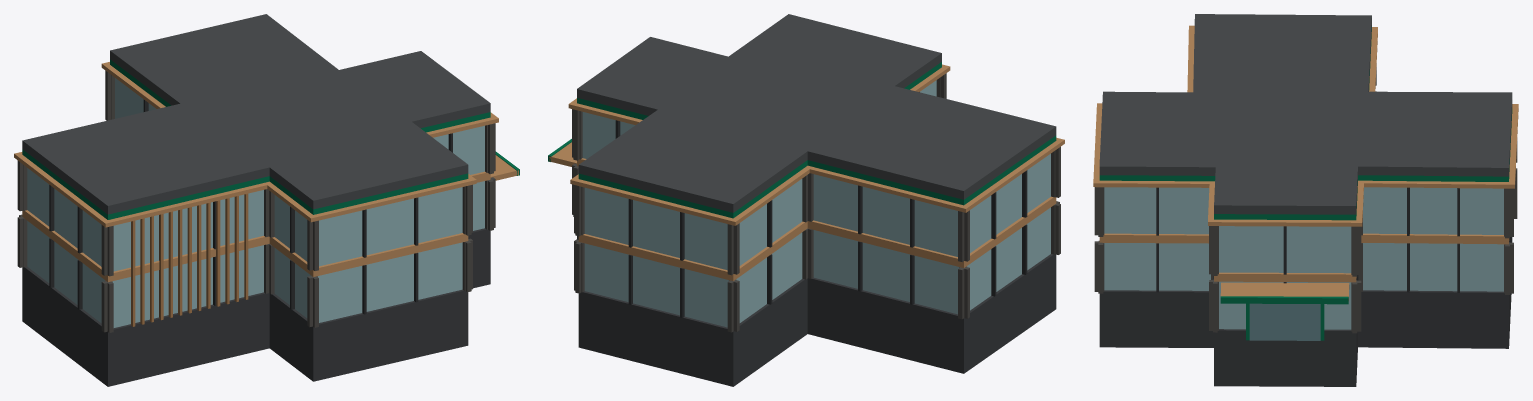
Rendered from starbucks-xiangxin.glb.
3 views of the same model, side by side, from view 1: azimuth 30°, elevation 25°; view 2: azimuth 150°, elevation 25°; view 3: azimuth 270°, elevation 25° (orthographic).
Visible parts, largest first — view 1: starbucks-xiangxin; view 2: starbucks-xiangxin; view 3: starbucks-xiangxin.
Part boxes in pixels (x1,y1,x2,y2): starbucks-xiangxin: (14,14,519,386); starbucks-xiangxin: (548,14,1064,386); starbucks-xiangxin: (1093,14,1518,386).
Bounding box in the file's own units: 28.7 × 11.5 × 24.51.
